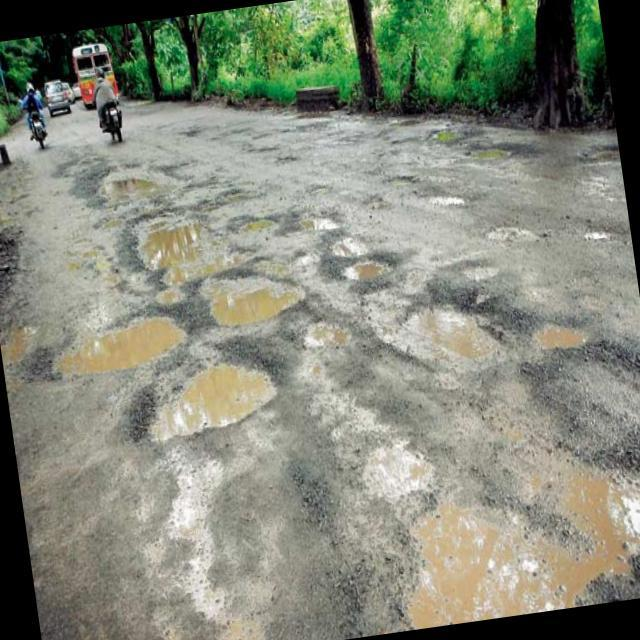Pothole: (108, 200, 270, 294), (132, 350, 300, 438), (34, 320, 218, 386), (185, 268, 322, 328), (88, 160, 187, 222), (442, 130, 538, 177), (480, 206, 547, 254), (425, 106, 488, 153), (337, 244, 399, 288), (222, 198, 290, 236), (428, 177, 482, 217), (319, 238, 366, 266), (294, 215, 334, 242)
